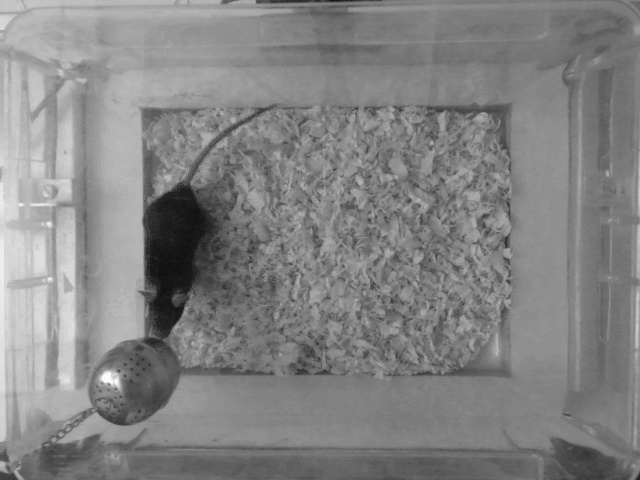mice: (141, 100, 276, 332)
